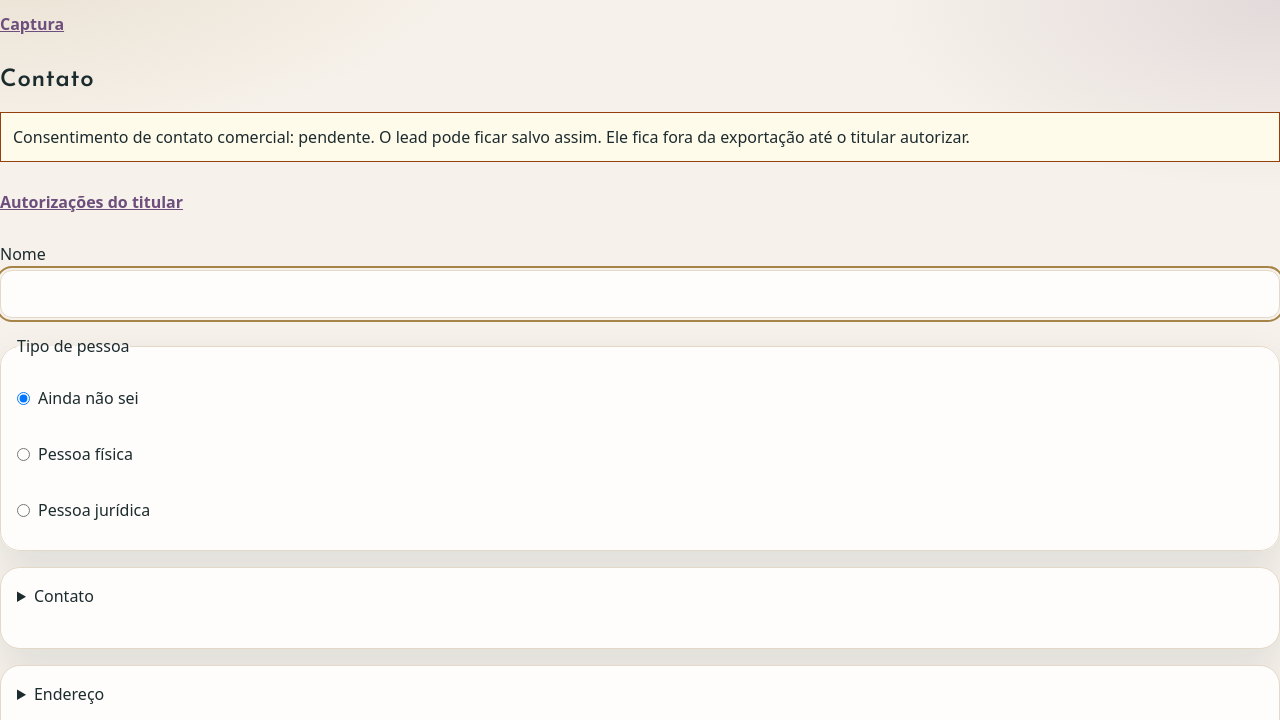
it: formulário de captura › não cria contato em branco e separa PF de PJ
expect the field labelled "Nome" is shown: met, box left=0, top=270, right=1279, bottom=318
expect the field labelled "CNPJ" is not shown: met
Click the radio button labelled "Pessoa física" at (24, 454), box left=17, top=448, right=30, bottom=460
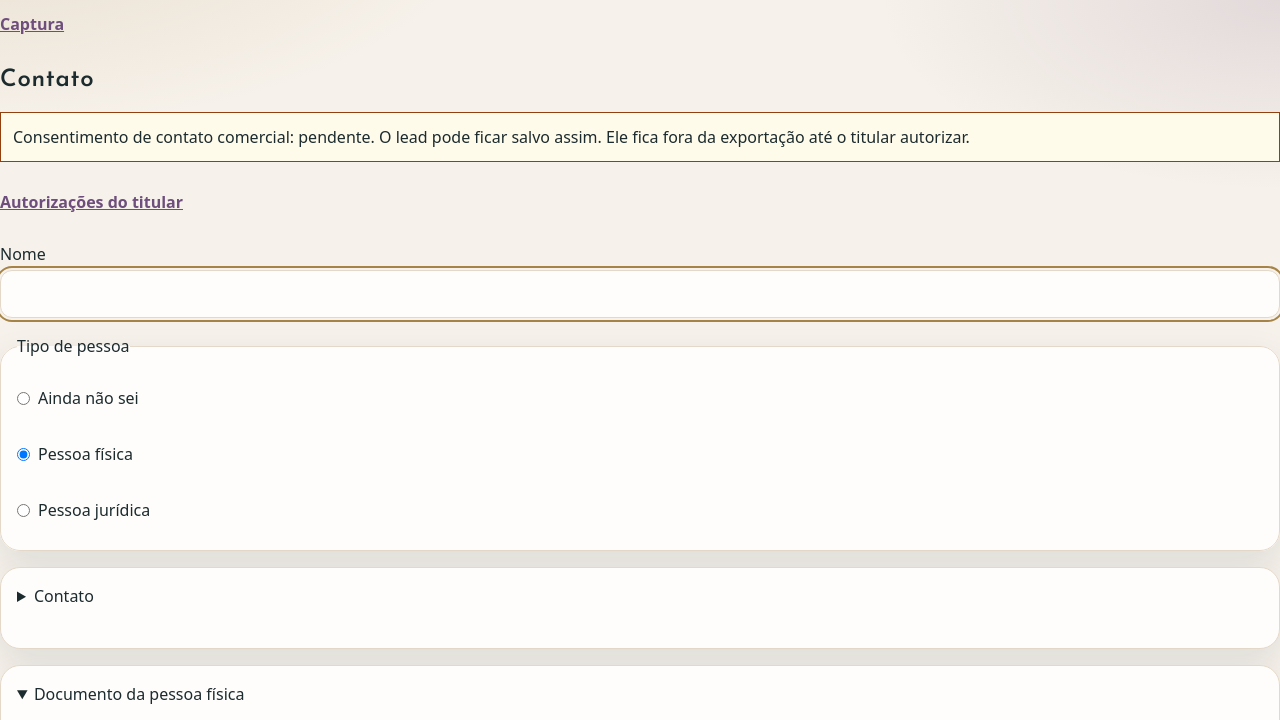
Click the radio button labelled "Pessoa jurídica" at (24, 510), box left=17, top=504, right=30, bottom=516
(page scrolled)
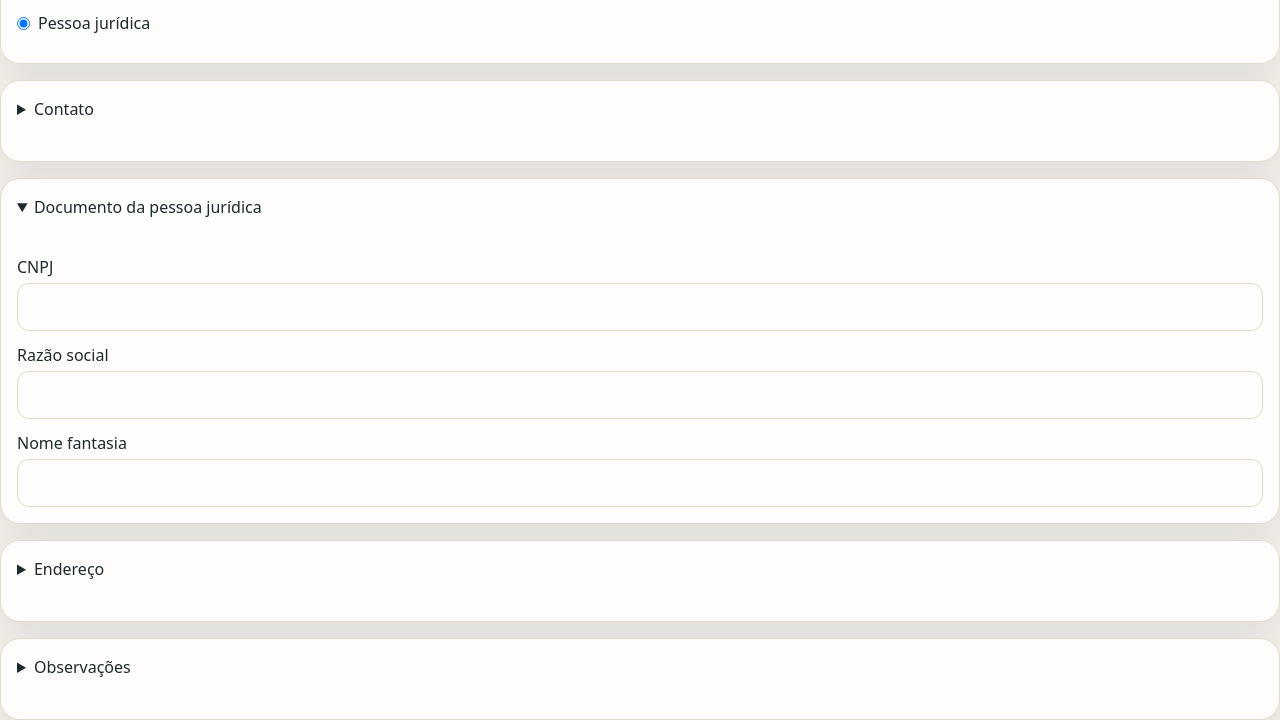
expect the field labelled "CNPJ" is shown: met, box left=17, top=283, right=1263, bottom=331
expect the field labelled "Razão social" is shown: met, box left=17, top=371, right=1263, bottom=419
